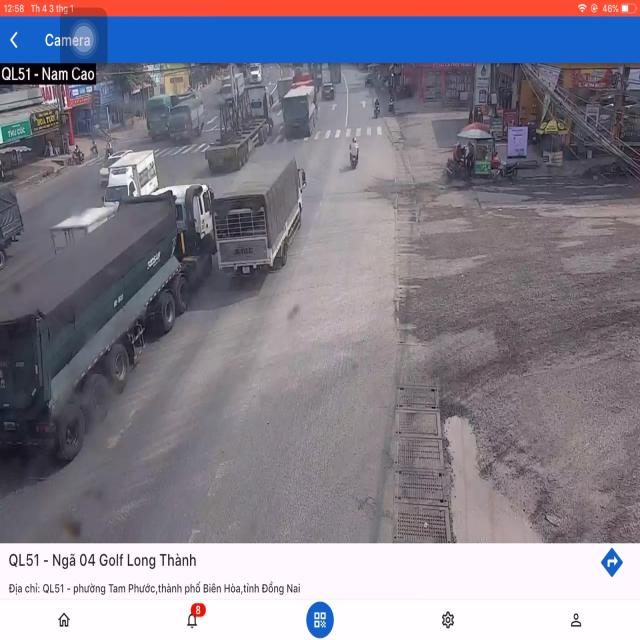motorbike: (347, 133, 360, 172)
truck: (0, 182, 208, 462), (219, 158, 306, 284), (212, 86, 272, 170), (108, 148, 154, 202), (168, 96, 203, 141), (282, 89, 314, 138)
